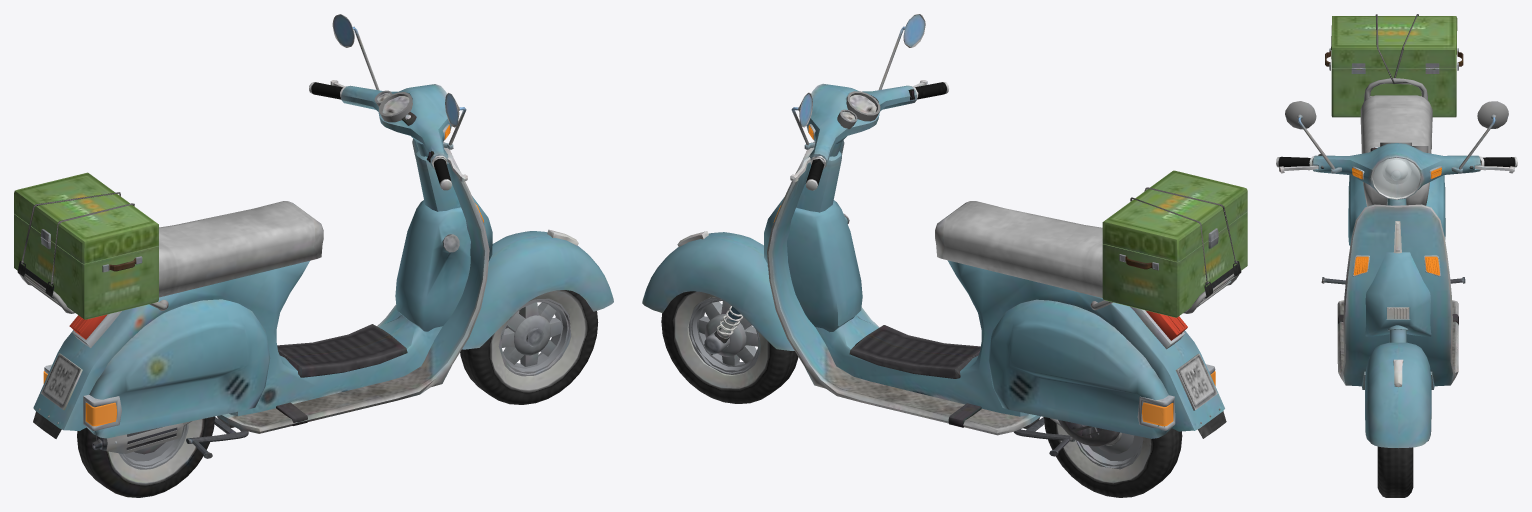
File: v_vsp2.glb
3 views of the same model, side by side, from view 1: azimuth 30°, elevation 25°; view 2: azimuth 150°, elevation 25°; view 3: azimuth 270°, elevation 25° (orthographic). The views are drawn at different scales.
Visible parts, largest first — view 1: Vespa_VespaMainMat_0, Vespa_BlinkersGlass_0; view 2: Vespa_VespaMainMat_0, Vespa_BlinkersGlass_0; view 3: Vespa_VespaMainMat_0, Vespa_ClearGlass_0, Vespa_BlinkersGlass_0.
Boxes of the visible parts, <box> form: Vespa_VespaMainMat_0: <box>14,14,613,497</box>; Vespa_BlinkersGlass_0: <box>43,125,484,426</box>; Vespa_VespaMainMat_0: <box>642,14,1247,497</box>; Vespa_BlinkersGlass_0: <box>773,125,1215,426</box>; Vespa_VespaMainMat_0: <box>1276,14,1517,497</box>; Vespa_ClearGlass_0: <box>1373,157,1420,197</box>; Vespa_BlinkersGlass_0: <box>1352,167,1441,275</box>.
Bounding box in the file's own units: 2.02 × 1.27 × 0.8304.
4 materials, 1 textured.
